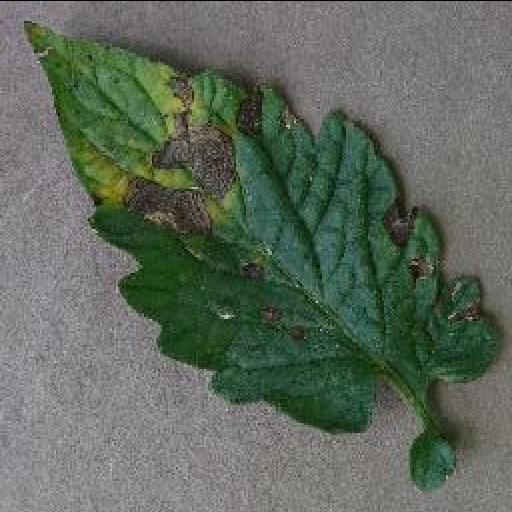disease_tomato: (22, 20, 506, 434)
